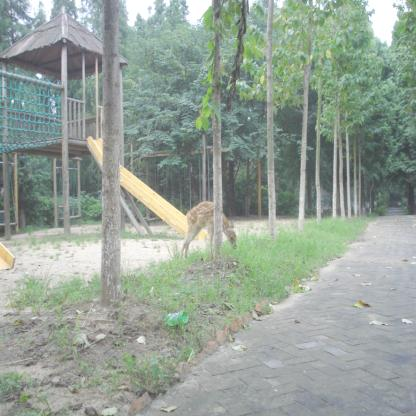Deer: (179, 200, 238, 265)
